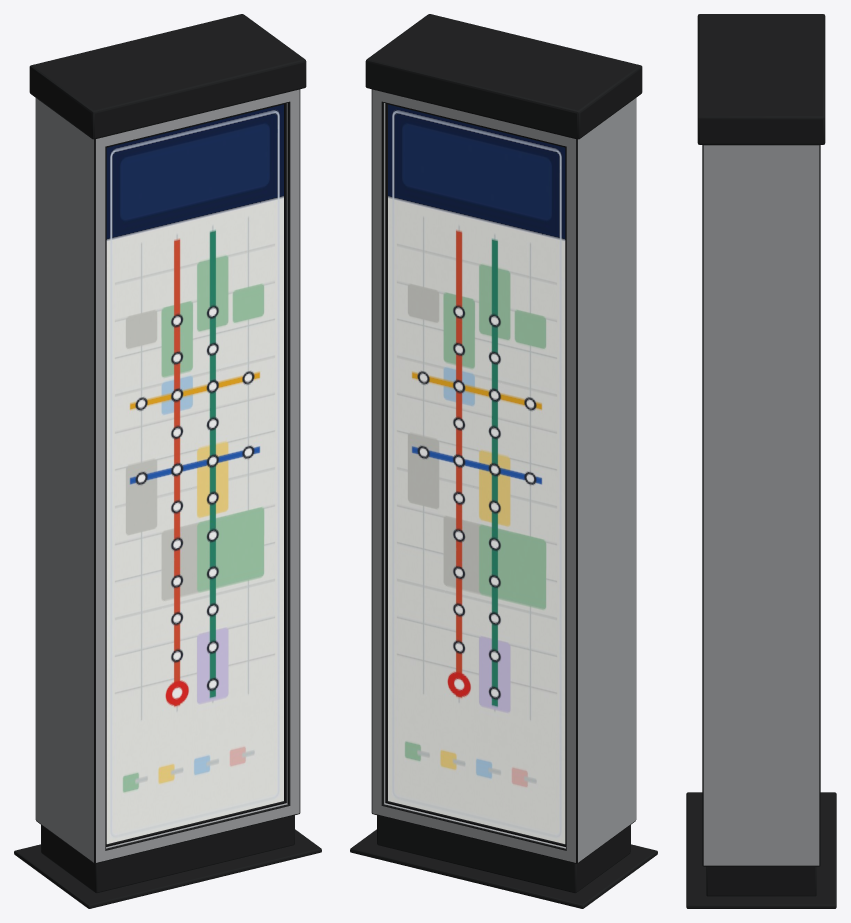
The model's file is gteki_sign_totem.glb.
3 renders of one model, left to right at view 1: azimuth 30°, elevation 25°; view 2: azimuth 150°, elevation 25°; view 3: azimuth 270°, elevation 25°, orthographic.
Parts seen in each view (by area): view 1: VIS_body; view 2: VIS_body; view 3: VIS_body.
Part boxes in pixels (x1,y1,x2,y2): VIS_body: (14,14,321,908); VIS_body: (350,14,657,908); VIS_body: (686,14,836,908).
Size of what is drawn, in the model's own units: 0.68 by 2.2 by 0.38.
Materials: 2 (2 with a texture image).
